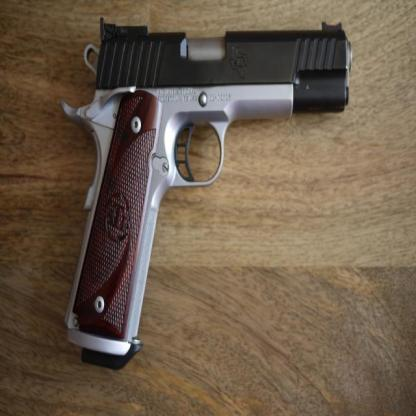weapon: (62, 16, 355, 371)
